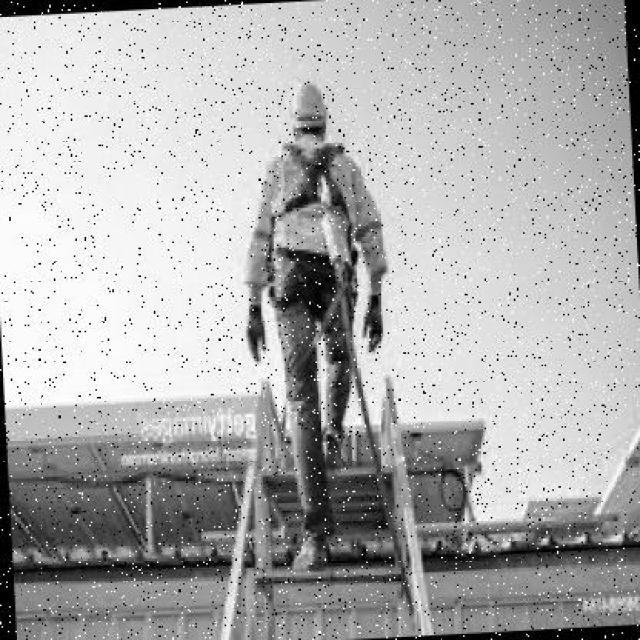Arnes_seguridad: (260, 126, 362, 325)
